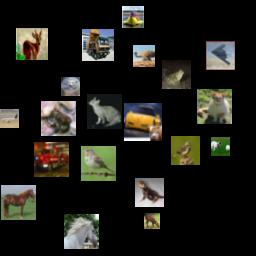airplane: (206, 41, 235, 70), (0, 109, 19, 128)
automobile: (124, 103, 162, 141)
bird: (81, 146, 116, 181), (171, 136, 200, 165), (133, 45, 155, 67)
cat: (87, 94, 122, 129), (197, 89, 232, 124), (135, 178, 164, 207)
deer: (16, 28, 48, 60), (144, 213, 160, 229)
dog: (61, 77, 80, 96), (211, 137, 230, 156)
frog: (41, 101, 76, 136), (162, 60, 191, 89)
ship: (122, 6, 144, 28)
truck: (34, 142, 69, 177), (82, 29, 114, 61)
